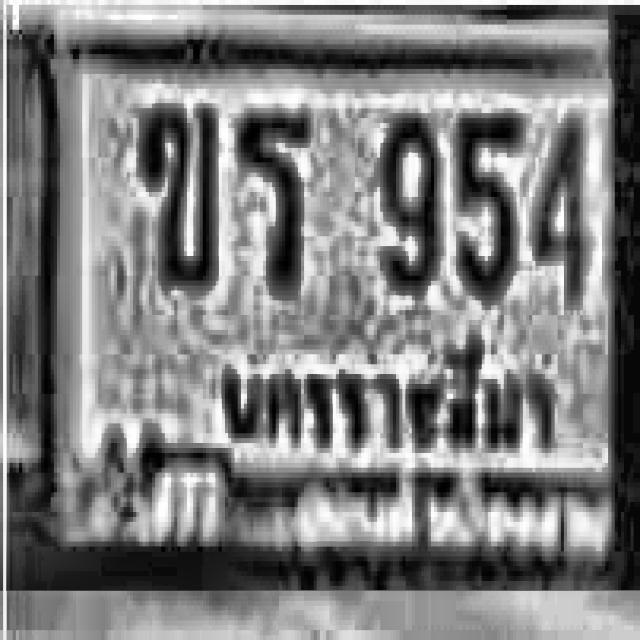license-plate: (35, 34, 640, 581)
